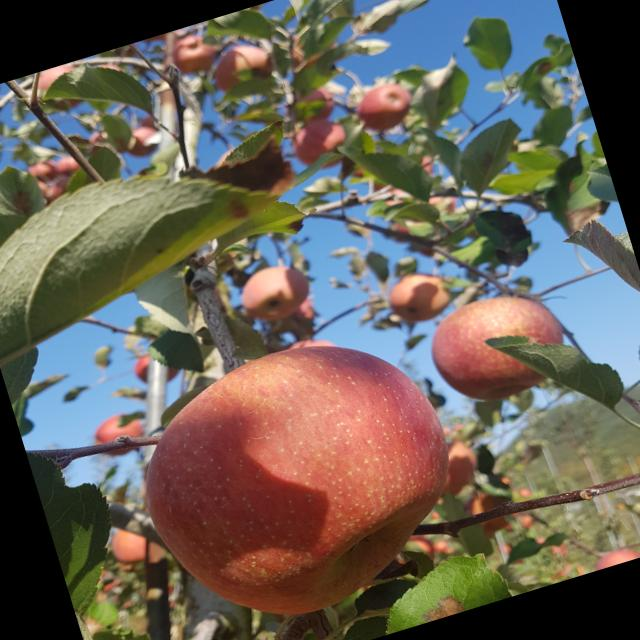fresh: (96, 300, 498, 640)
